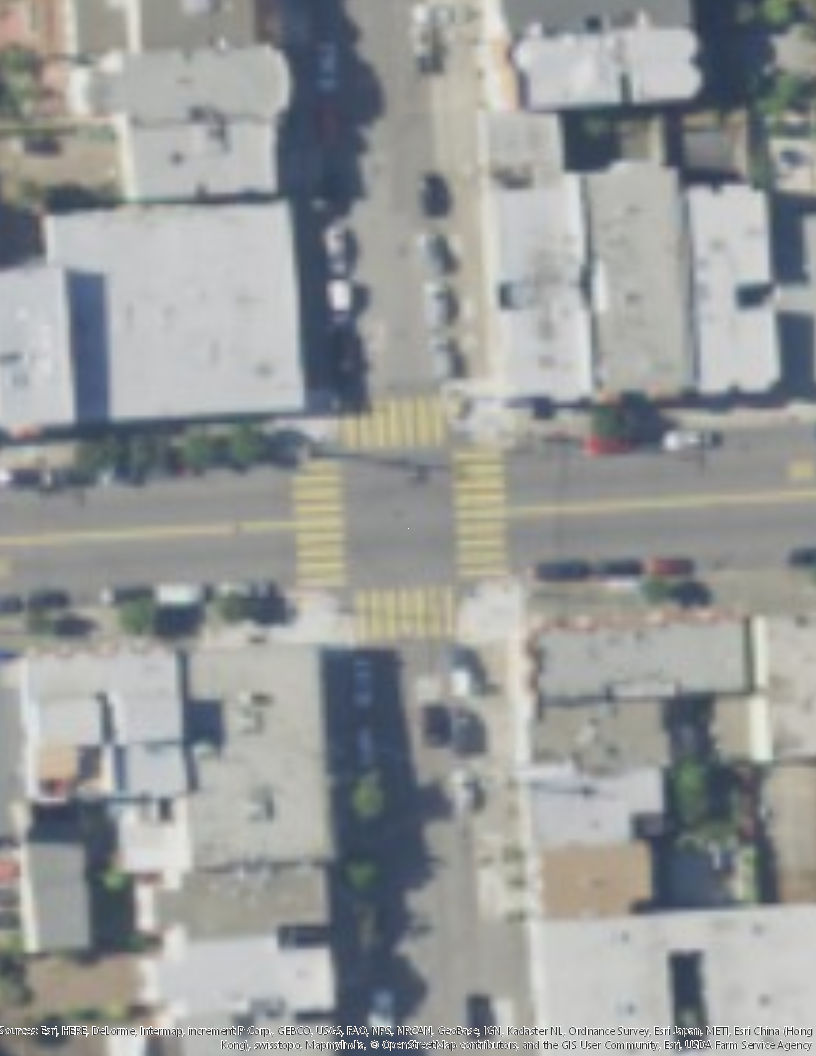zebracross: (296, 454, 349, 587), (455, 446, 505, 584), (354, 584, 459, 641), (340, 399, 449, 449)
